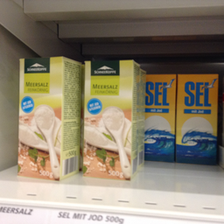spices: (16, 55, 82, 181), (82, 59, 140, 182), (175, 74, 220, 166)
